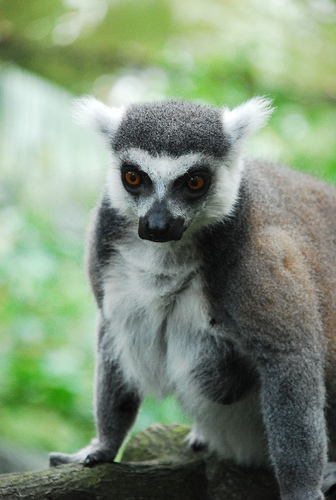cat: (48, 92, 334, 498)
